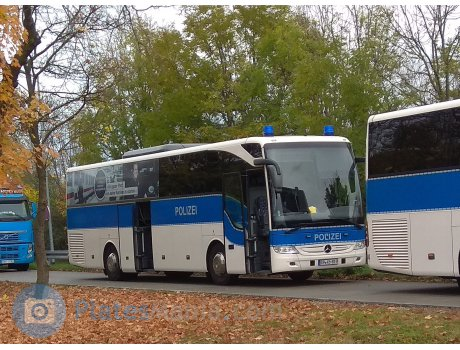License Plates: (312, 255, 342, 266)
